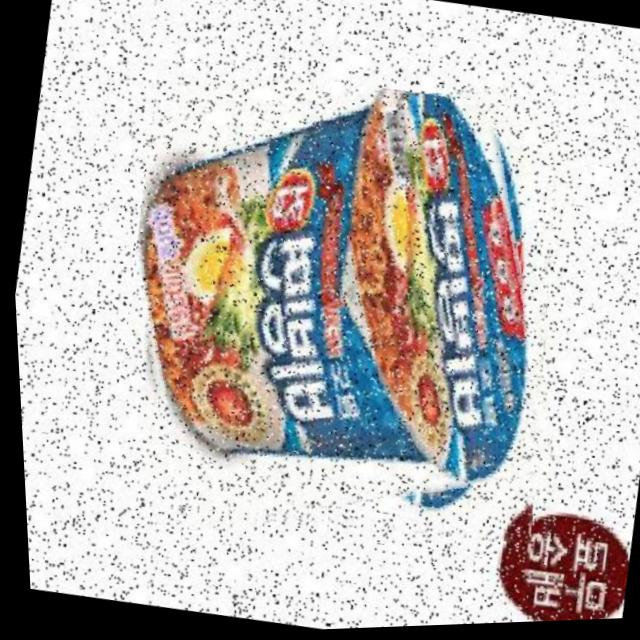Miscellaneous: (81, 45, 599, 574)
